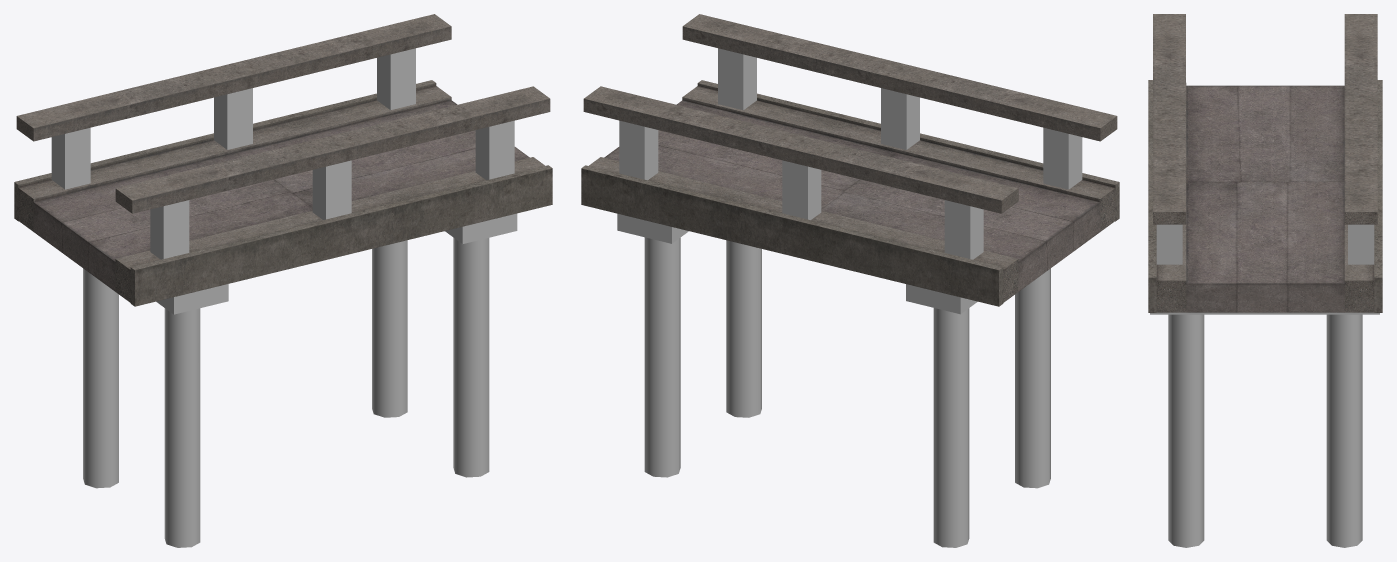
The model's file is Zigzag_Bridge.FBX.
The picture shows the model from 3 angles, left to right: view 1: azimuth 30°, elevation 25°; view 2: azimuth 150°, elevation 25°; view 3: azimuth 270°, elevation 25°; orthographic projection. The views are drawn at different scales.
Parts seen in each view (by area): view 1: Geometry_Zigzag_Bridge_A_LOD00; view 2: Geometry_Zigzag_Bridge_A_LOD00; view 3: Geometry_Zigzag_Bridge_A_LOD00.
Part boxes in pixels (left/top/right/bottom): Geometry_Zigzag_Bridge_A_LOD00: left=14, top=14, right=552, bottom=547; Geometry_Zigzag_Bridge_A_LOD00: left=581, top=14, right=1119, bottom=547; Geometry_Zigzag_Bridge_A_LOD00: left=1148, top=14, right=1382, bottom=547.
Size of what is drawn, in the model's own units: 400 by 337 by 200.
